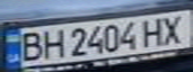0: (103, 21, 124, 53)
2: (66, 25, 90, 57)
4: (118, 18, 142, 51), (84, 22, 106, 55)
B: (15, 29, 45, 63)
H: (36, 27, 66, 60), (139, 16, 169, 48)
X: (157, 11, 193, 45)
